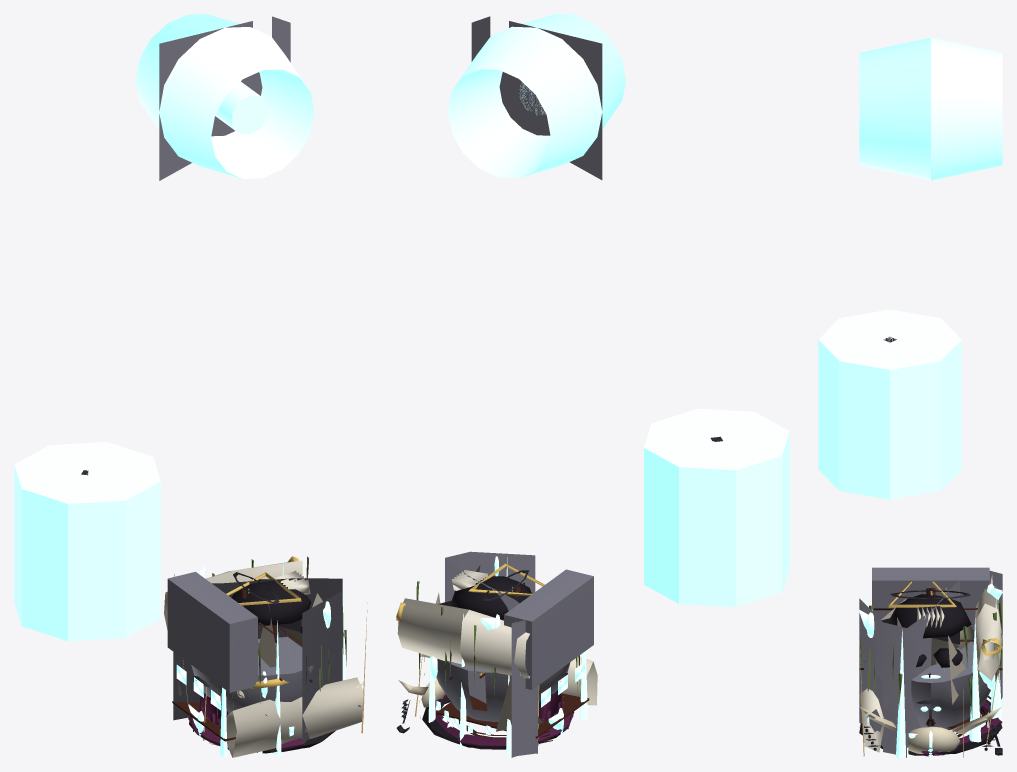
File: fantome-leger.glb
3 views of the same model, side by side, from view 1: azimuth 30°, elevation 25°; view 2: azimuth 150°, elevation 25°; view 3: azimuth 270°, elevation 25° (orthographic). The views are drawn at different scales.
Visible parts, largest first — view 1: fantome_lanterne, fantome_corps, fantome_fanion, fantome_voile00, fantome_voile01, fantome_voile10, fantome_flammes; view 2: fantome_lanterne, fantome_corps, fantome_fanion, fantome_voile00, fantome_voile10, fantome_flammes, fantome_voile11, fantome_voile01, fantome_follets; view 3: fantome_lanterne, fantome_fanion, fantome_corps, fantome_voile00, fantome_voile01, fantome_flammes, fantome_voile10, fantome_voile11, fantome_follets.
Boxes of the visible parts, box(x1,y1,x2,y2) form: fantome_lanterne: box(14, 442, 160, 641); fantome_corps: box(164, 556, 367, 757); fantome_fanion: box(135, 14, 314, 180); fantome_voile00: box(173, 574, 342, 743); fantome_voile01: box(173, 578, 342, 735); fantome_voile10: box(175, 578, 342, 674); fantome_flammes: box(220, 560, 345, 757); fantome_lanterne: box(644, 408, 789, 607); fantome_corps: box(396, 563, 597, 749); fantome_fanion: box(447, 14, 625, 179); fantome_voile00: box(445, 551, 537, 753); fantome_voile10: box(445, 552, 537, 756); fantome_flammes: box(428, 557, 587, 754); fantome_voile11: box(447, 552, 537, 757); fantome_voile01: box(445, 552, 537, 753); fantome_follets: box(430, 552, 563, 735); fantome_lanterne: box(818, 309, 961, 499); fantome_fanion: box(859, 37, 1002, 180); fantome_corps: box(859, 567, 1002, 757); fantome_voile00: box(859, 571, 1002, 757); fantome_voile01: box(859, 571, 1002, 736); fantome_flammes: box(865, 591, 1002, 757); fantome_voile10: box(868, 582, 1001, 754); fantome_voile11: box(859, 571, 1002, 747); fantome_follets: box(859, 583, 1002, 756).
Size of the model in its own units: 5.02 by 10.25 by 2.57.
